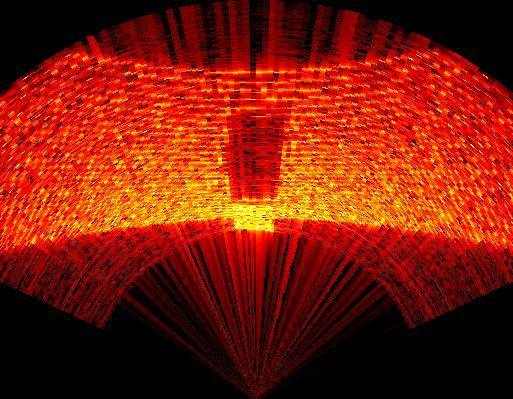box_crate: (223, 109, 285, 200)
